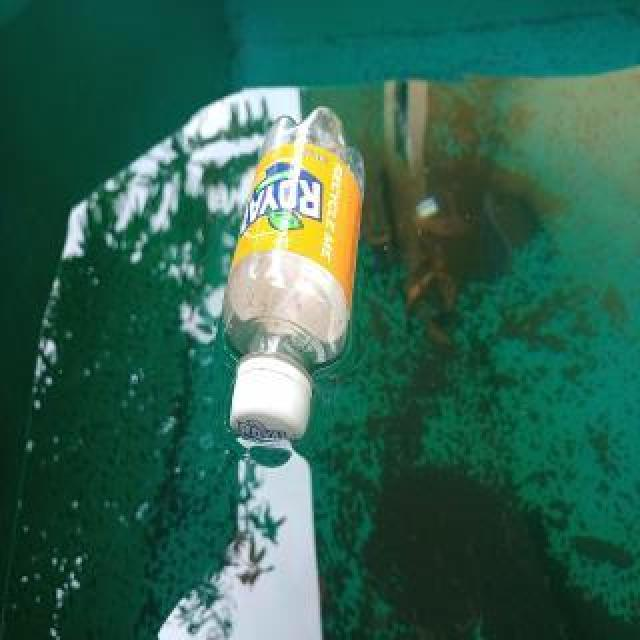bottle: (217, 101, 367, 449)
